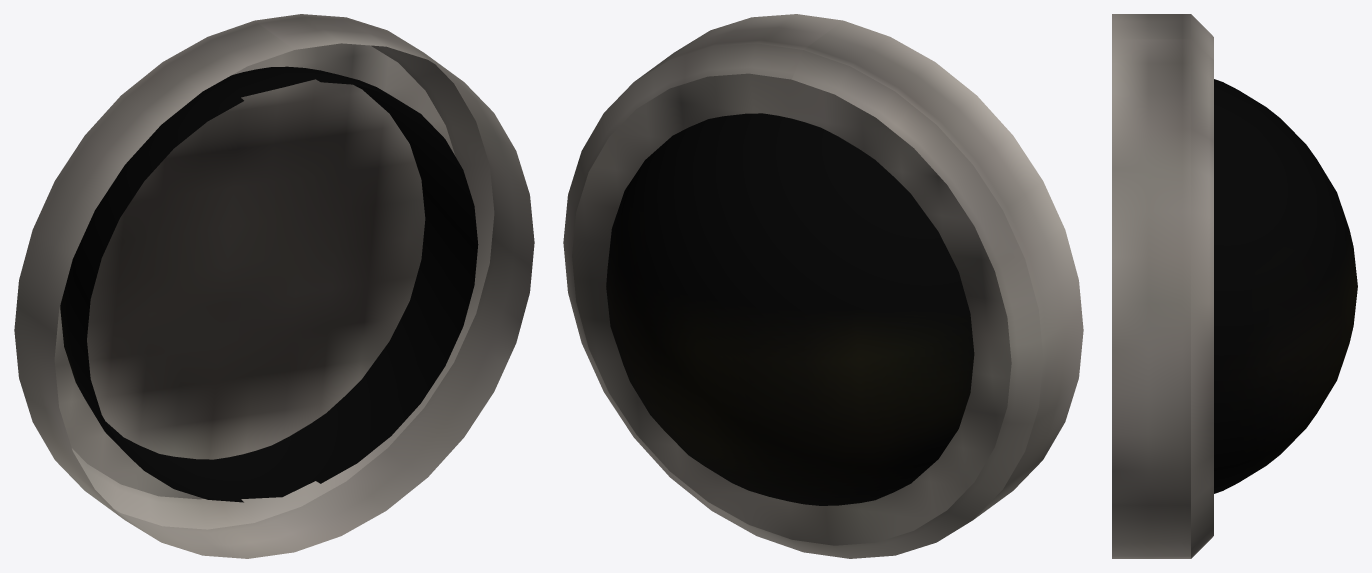
File: luzVermelha (1).glb
3 views of the same model, side by side, from view 1: azimuth 30°, elevation 25°; view 2: azimuth 150°, elevation 25°; view 3: azimuth 270°, elevation 25° (orthographic).
Visible parts, largest first — view 1: Luzes.001; view 2: Luzes.001; view 3: Luzes.001.
Boxes of the visible parts, <box> form: Luzes.001: <box>14,14,534,558</box>; Luzes.001: <box>563,14,1083,558</box>; Luzes.001: <box>1112,14,1357,558</box>.
Bounding box in the file's own units: 0.3986 × 0.3986 × 0.1797.
1 material, 1 textured.
